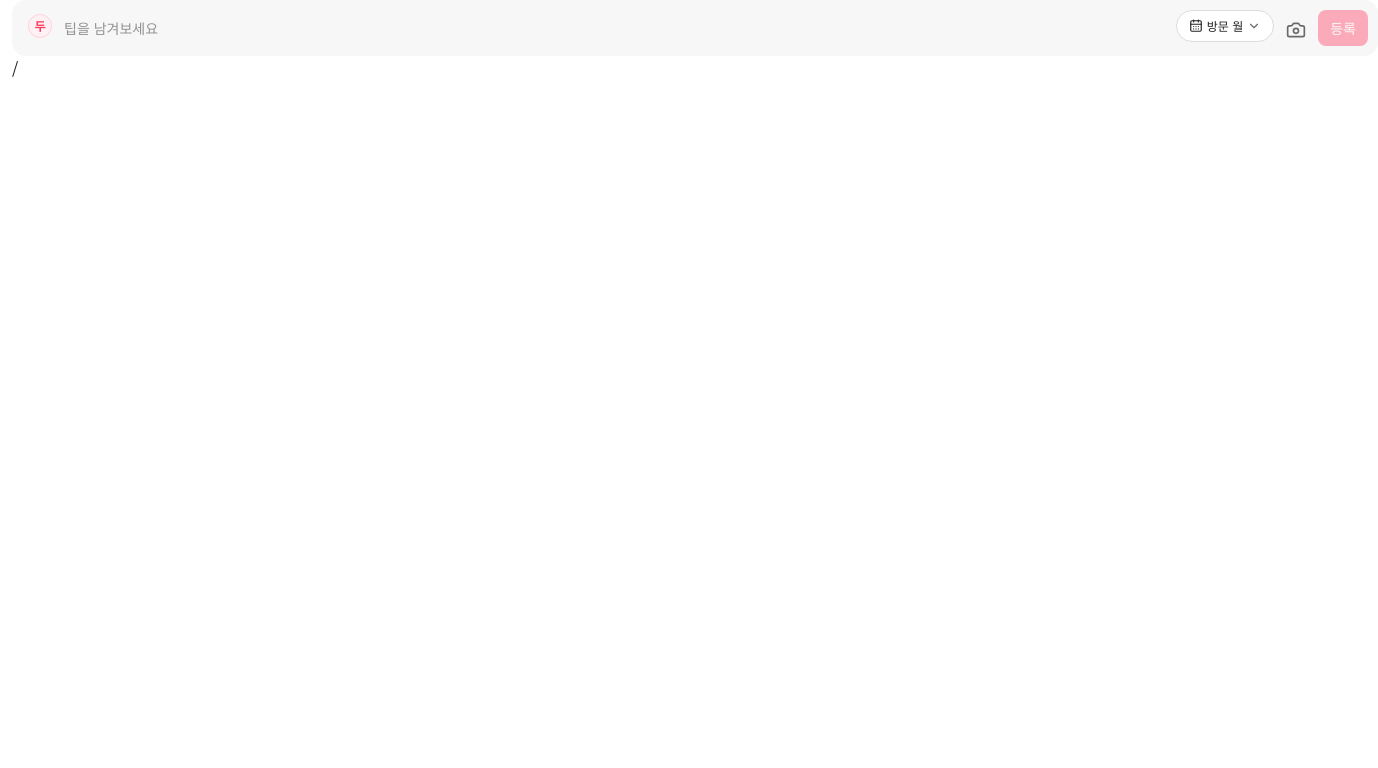
Test case: TipComposer › 실패: 토스트, 입력 유지
In the text box named "워케이션 팁": (614, 28) [64, 14, 1164, 42], type "조용해요"
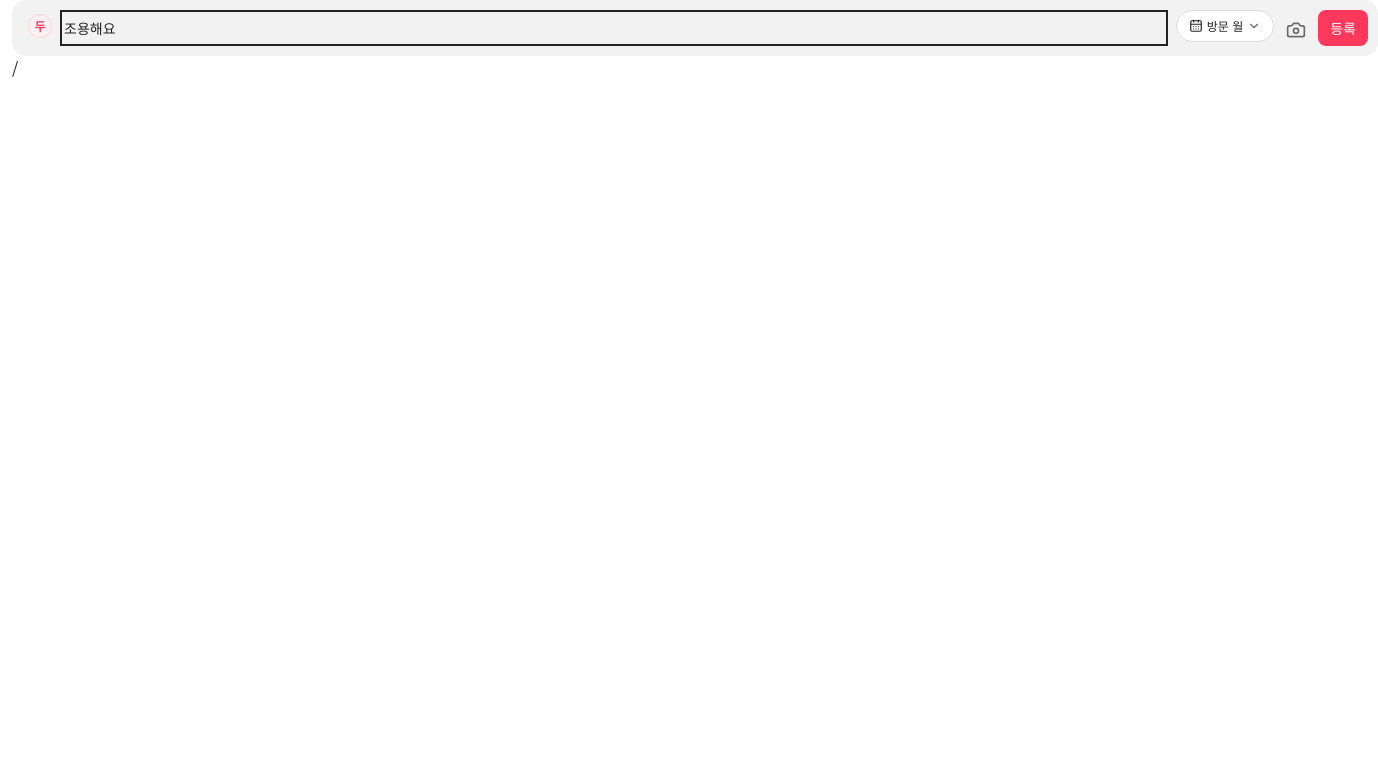
Click the button "등록": (1343, 28) [1318, 10, 1368, 46]
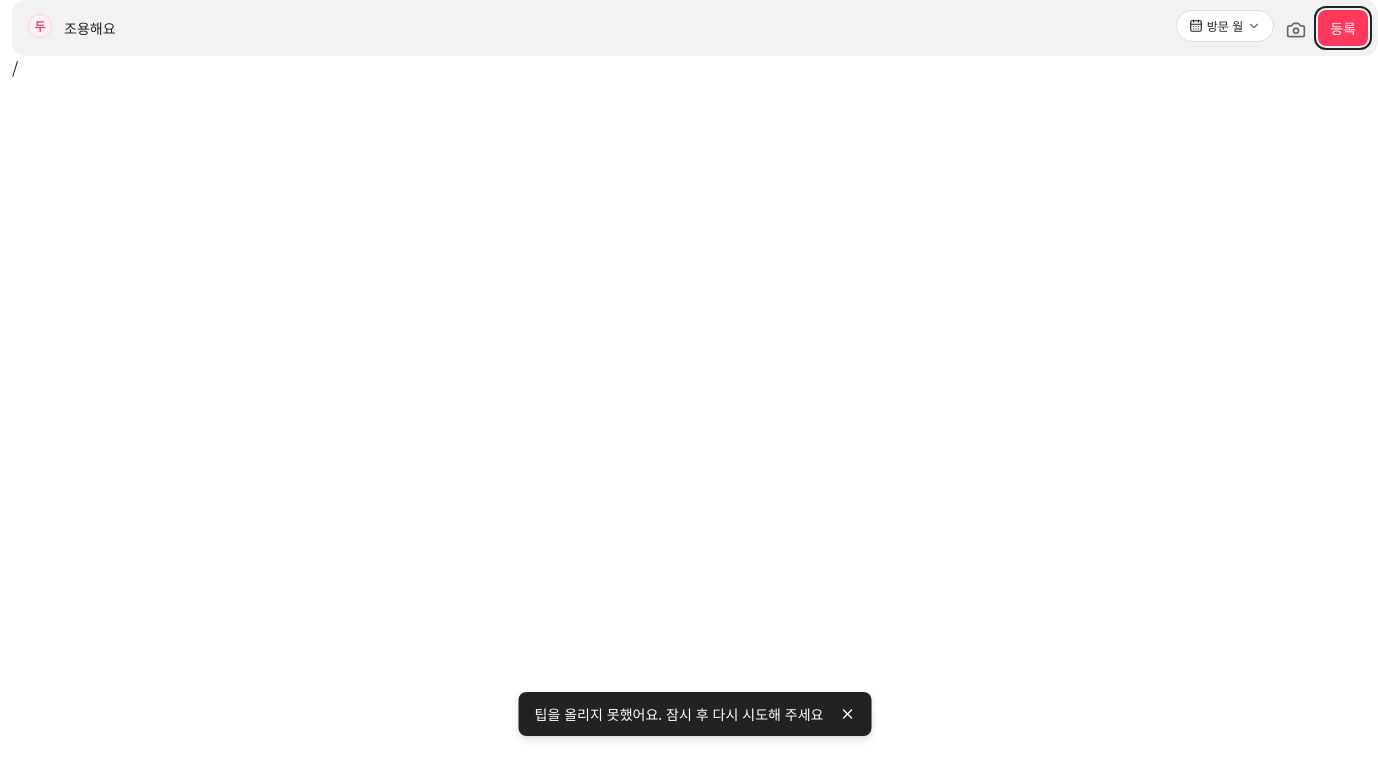
Now the message shows "팁을 올리지 못했어요", box [534, 704, 824, 724]
